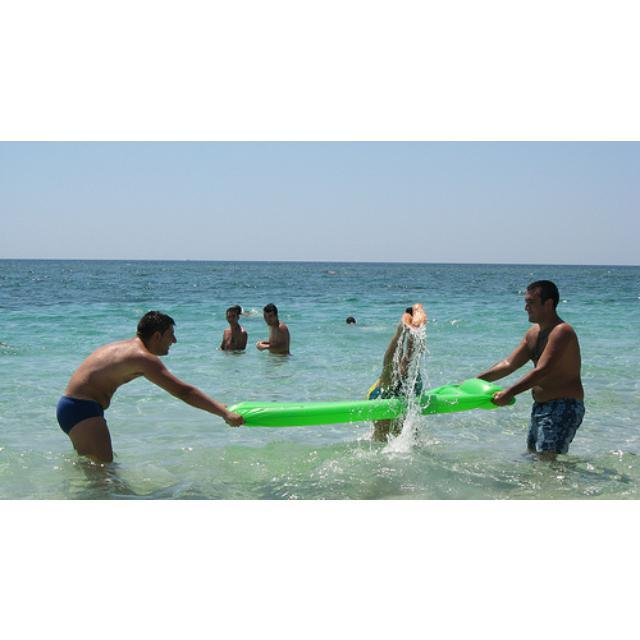human: (54, 312, 230, 464), (474, 277, 562, 460), (253, 300, 288, 356), (219, 303, 247, 351), (345, 316, 362, 324)
